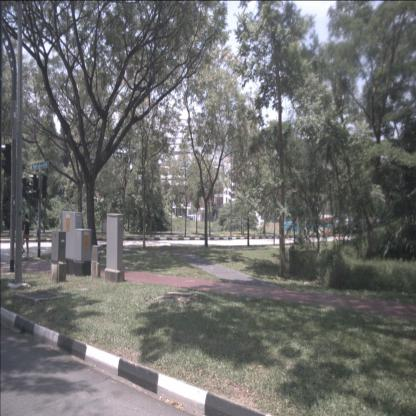human-pedestrian-adult: (20, 213, 30, 260)
